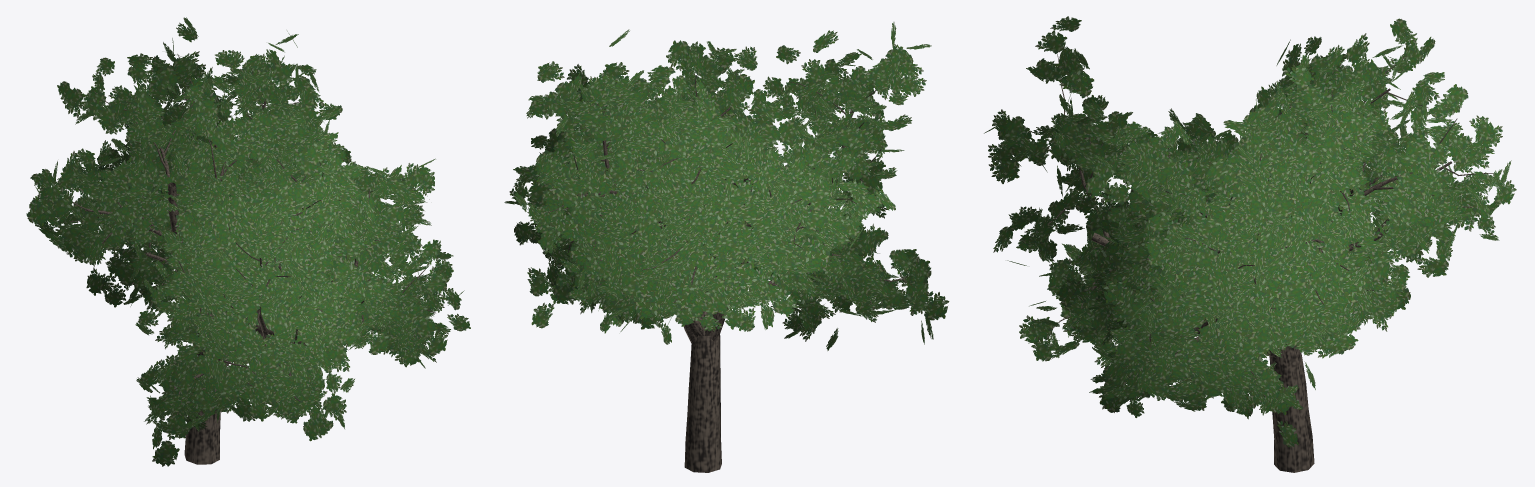
The model's file is HO3_HolmOak_Mature_10m.glb.
3 renders of one model, left to right at view 1: azimuth 30°, elevation 25°; view 2: azimuth 150°, elevation 25°; view 3: azimuth 270°, elevation 25°, orthographic. The views are drawn at different scales.
Parts seen in each view (by area): view 1: HO3_leaves, HO3_wood; view 2: HO3_leaves, HO3_wood; view 3: HO3_leaves, HO3_wood.
Part boxes in pixels (<box>): HO3_leaves: <box>26,17,470,466</box>; HO3_wood: <box>44,54,435,464</box>; HO3_leaves: <box>504,22,949,350</box>; HO3_wood: <box>548,72,907,472</box>; HO3_leaves: <box>984,16,1516,447</box>; HO3_wood: <box>1016,54,1492,472</box>.
Size of the model in its own units: 10.34 by 10.01 by 11.12.
2 materials, 2 textured.
